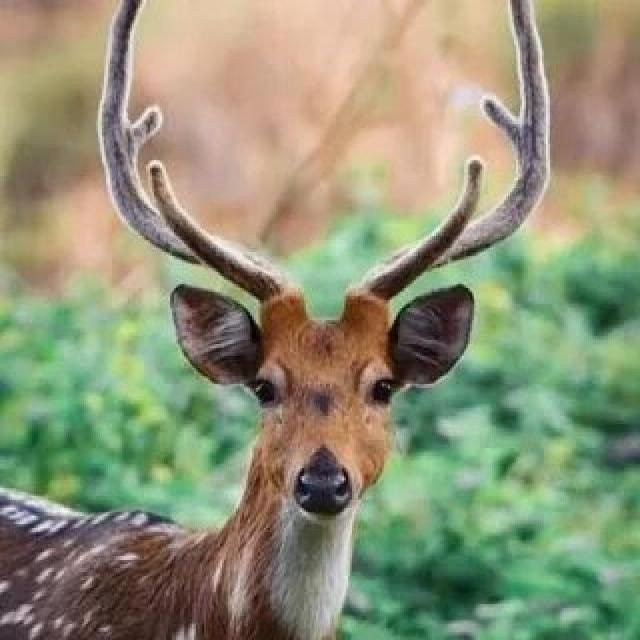deer: (29, 9, 524, 640)
